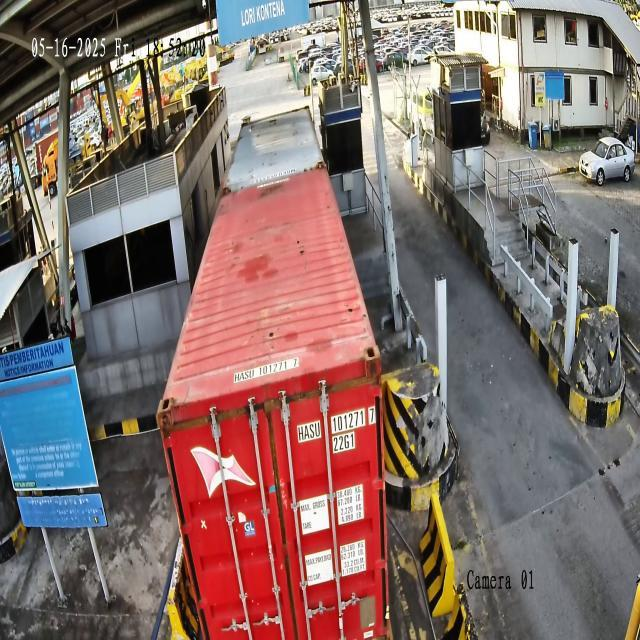ISO: (332, 432, 356, 453)
container_number: (296, 406, 376, 444)
